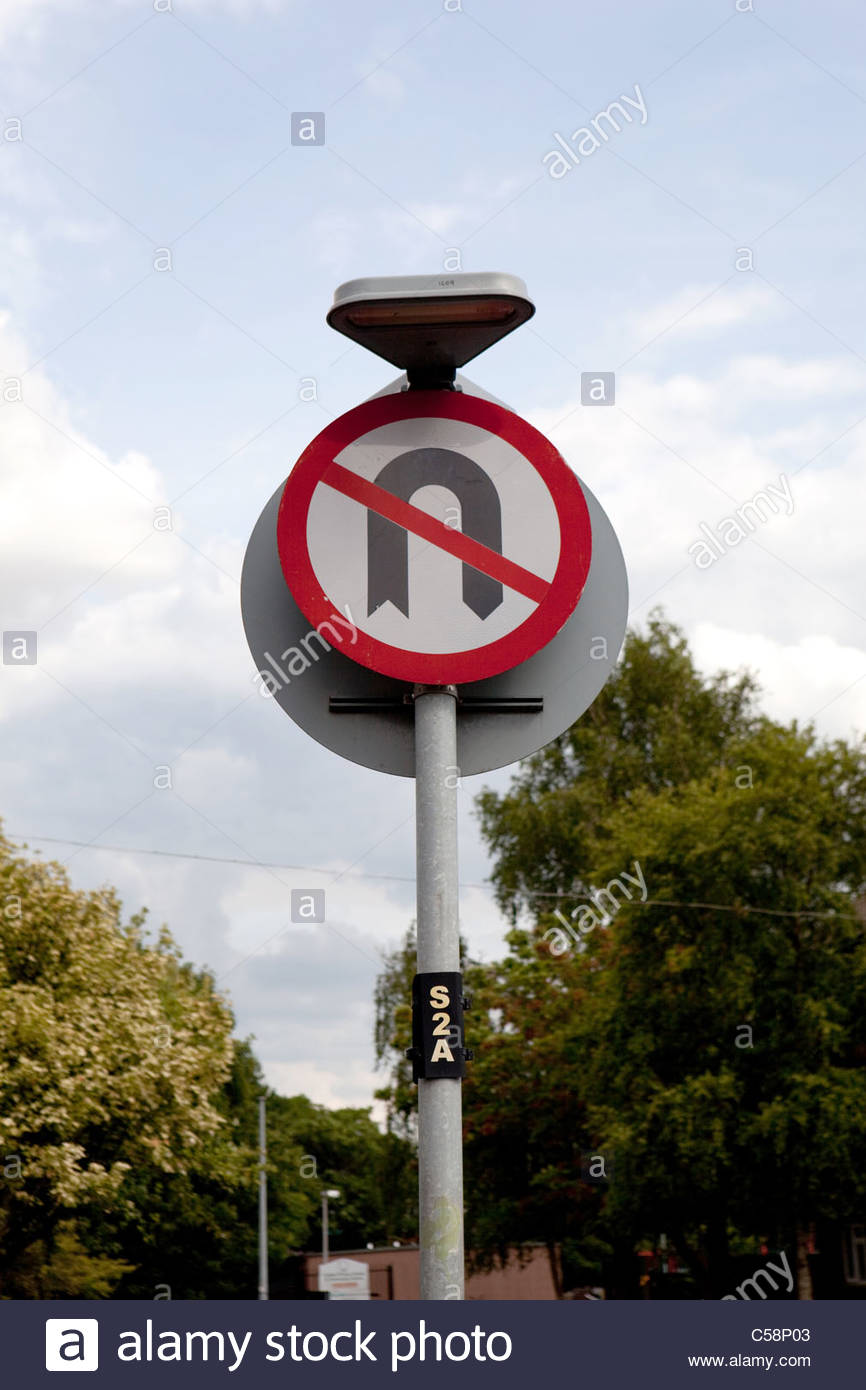No_u_turn: (278, 389, 595, 680)
